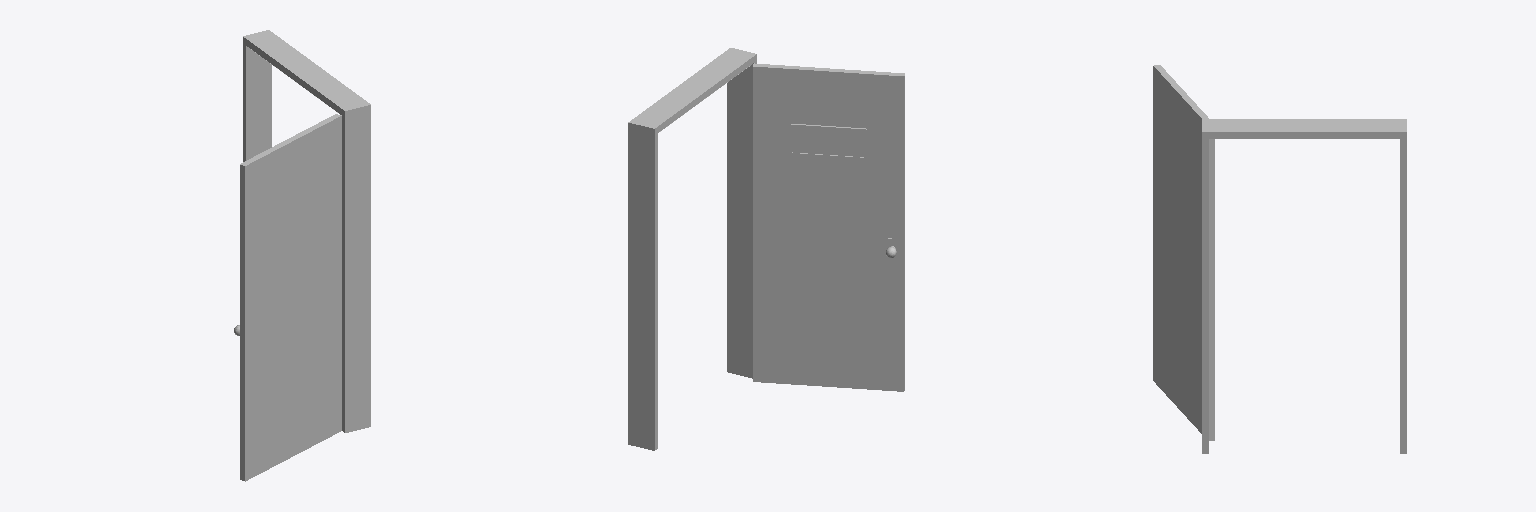
The model's file is SteelDoor3.obj.
3 renders of one model, left to right at view 1: azimuth 30°, elevation 25°; view 2: azimuth 150°, elevation 25°; view 3: azimuth 270°, elevation 25°, orthographic.
Parts seen in each view (by area): view 1: Cube_Cube.003, Cube_Cube.002; view 2: Cube_Cube.003, Cube_Cube.002; view 3: Cube_Cube.003, Cube_Cube.002.
Boxes of the visible parts, box(x1,y1,x2,y2) form: Cube_Cube.003: box(234, 114, 341, 481); Cube_Cube.002: box(243, 30, 370, 432); Cube_Cube.003: box(753, 63, 904, 391); Cube_Cube.002: box(628, 48, 756, 450); Cube_Cube.003: box(1153, 65, 1214, 440); Cube_Cube.002: box(1202, 119, 1406, 453).
Bounding box in the file's own units: 1.11 × 2.23 × 1.59.